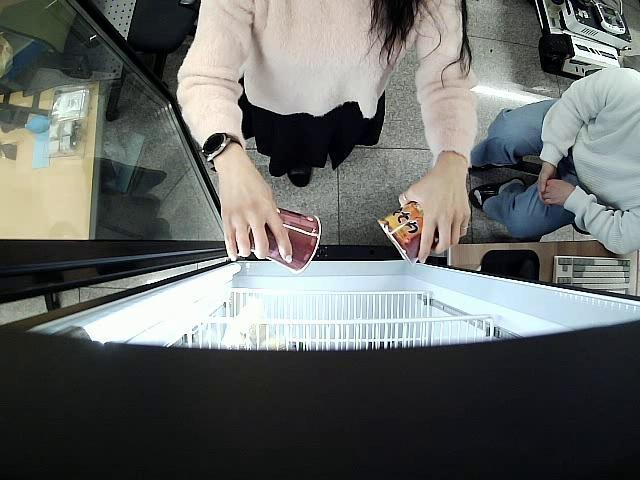06_nuguri_S: (251, 207, 322, 274), (378, 200, 439, 266)
